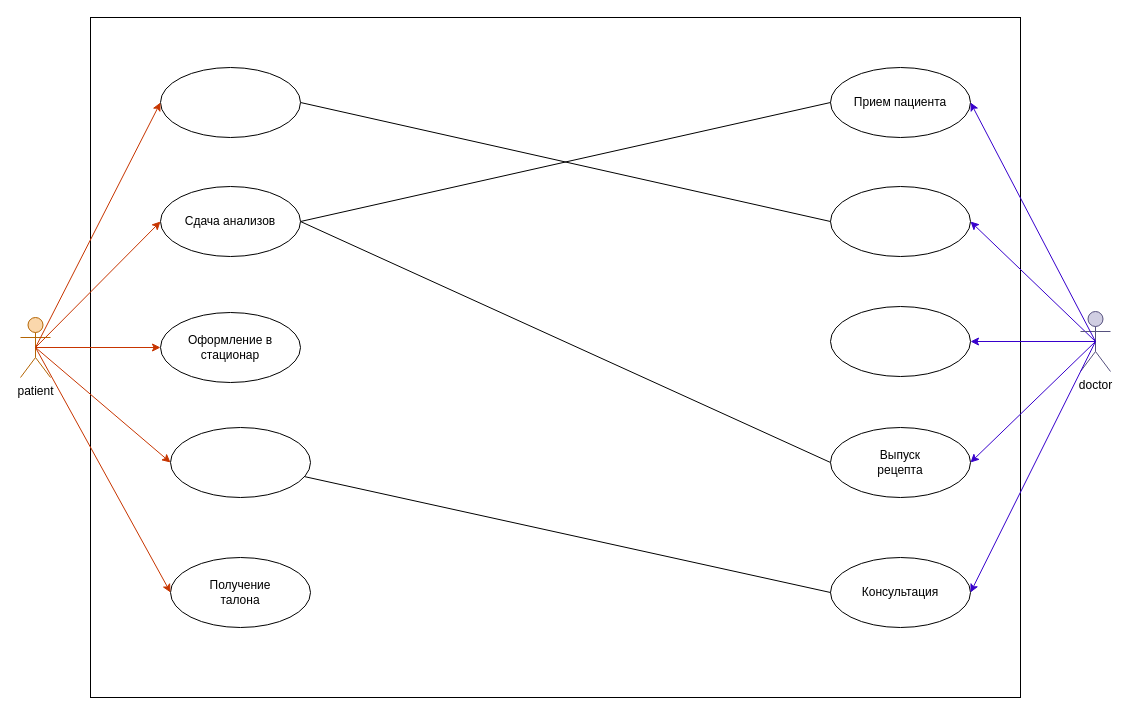
Some shapes in this 1129 by 715 pixel diagram are drawn without their labels. The centre of each missing label's shape, as x and y in pixels:
"Выезд врача на дом" goes at (x=900, y=341).
"Запись к врачу" goes at (x=240, y=462).
"Предоставление мед. документов" goes at (x=230, y=102).
"Формирование отчета" goes at (x=900, y=221).
